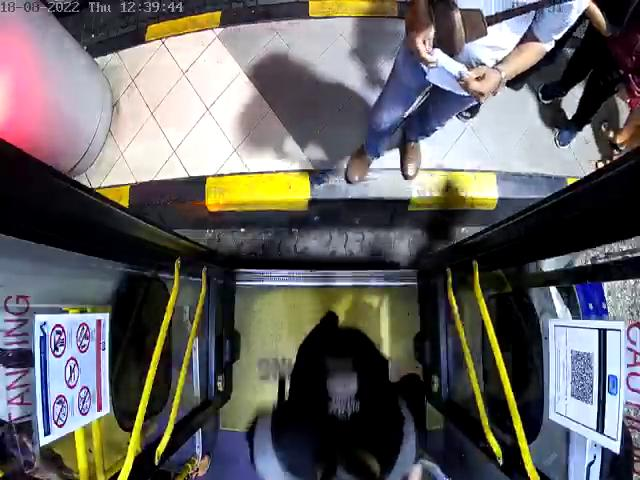open: (0, 0, 640, 165)
